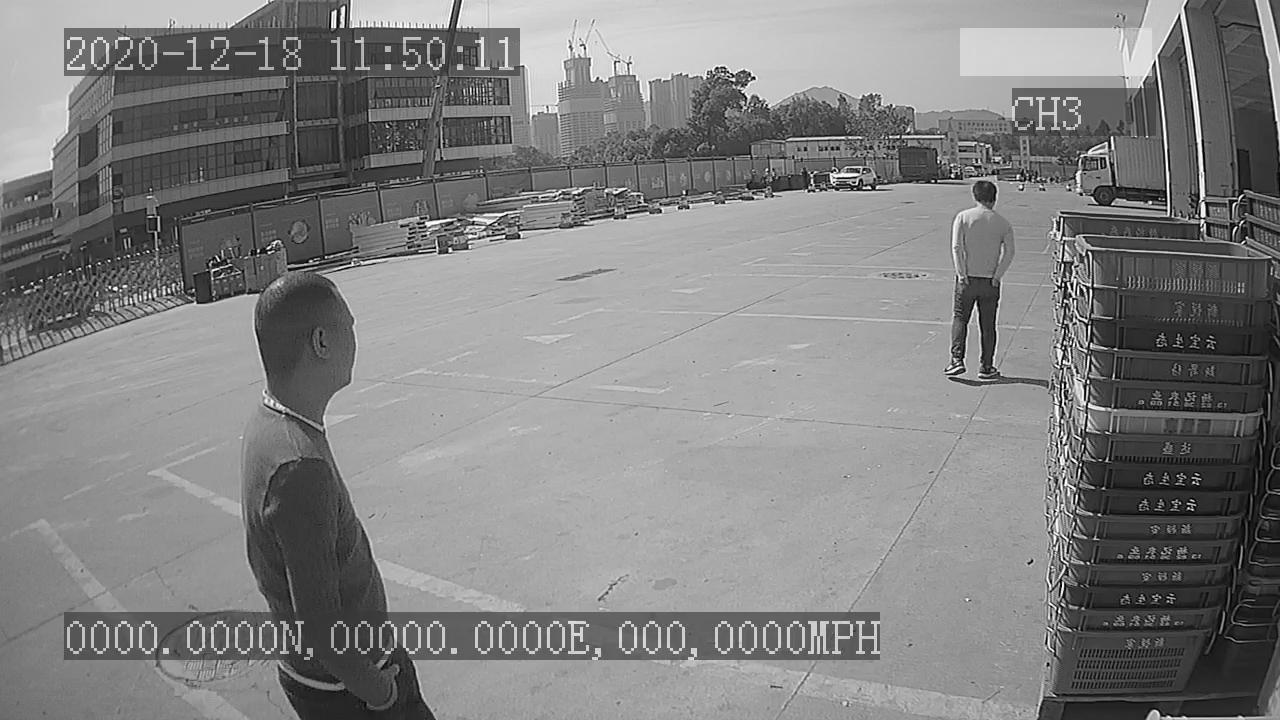person: (942, 177, 1017, 386)
